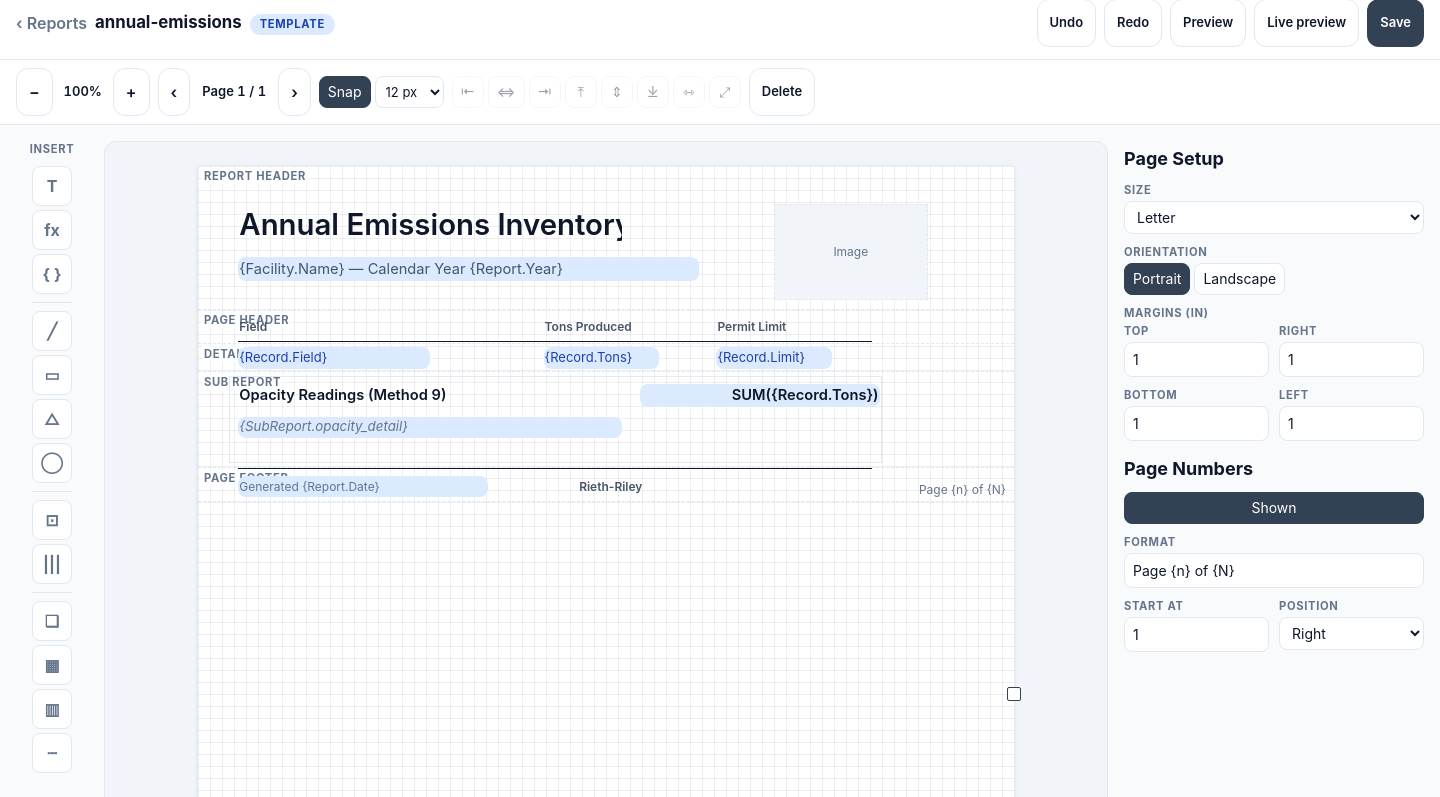
ReportBuilderScreen — selection (Phase 3) › selects a clicked element, populating the Properties panel and status bar
Click the button "Annual Emissions Inventory": (430, 224) x1=238 y1=208 x2=622 y2=241
(page scrolled)
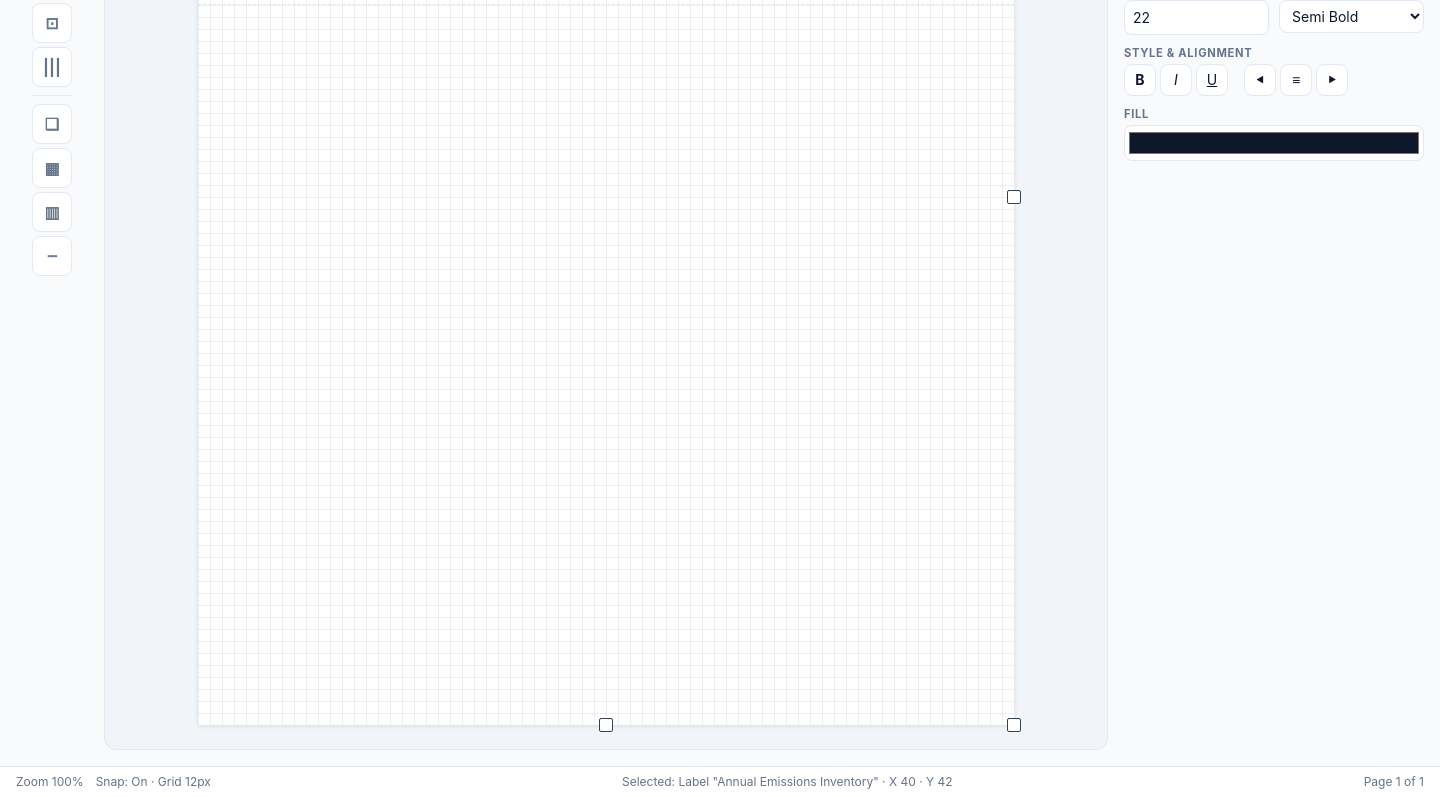
Check: the text "Selected: Label \"Annual Emissions Inventory\" · X 40 · Y 42" is shown, box x1=622 y1=774 x2=953 y2=789
